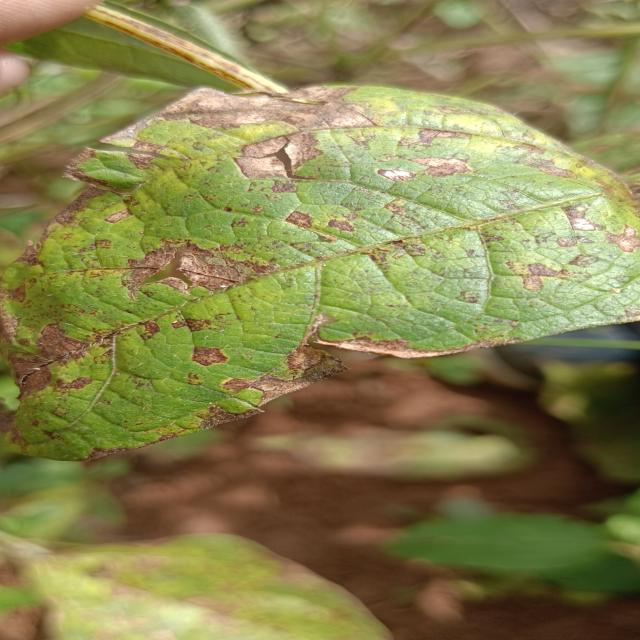Black gram_leaf spot: (0, 72, 640, 468), (25, 535, 392, 640)
